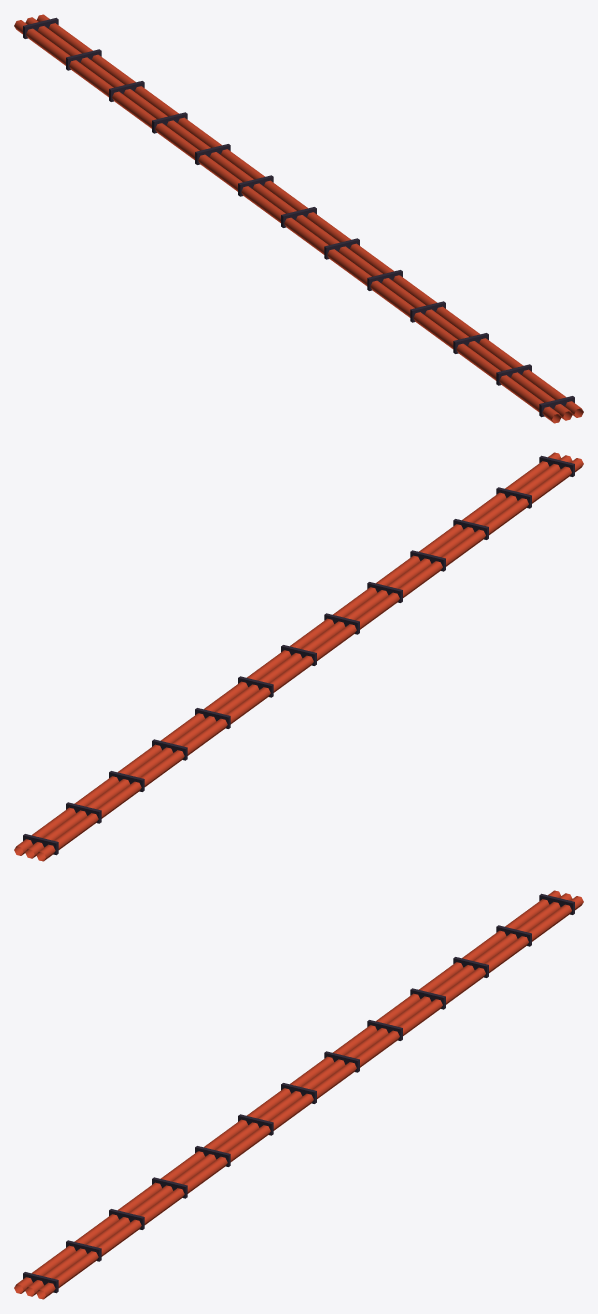
Rendered from Cables3-Straight_500cm_01.fbx.
3 renders of one model, top to bottom at view 1: azimuth 30°, elevation 25°; view 2: azimuth 150°, elevation 25°; view 3: azimuth 330°, elevation 25°, orthographic.
Parts seen in each view (by area): view 1: Cables3-Straight_500cm_01; view 2: Cables3-Straight_500cm_01; view 3: Cables3-Straight_500cm_01.
Part boxes in pixels (left/top/right/bottom): Cables3-Straight_500cm_01: left=14, top=14, right=583, bottom=423; Cables3-Straight_500cm_01: left=14, top=452, right=583, bottom=861; Cables3-Straight_500cm_01: left=14, top=890, right=583, bottom=1299.
Size of the model in its own units: 0.18 by 0.0601 by 5.
